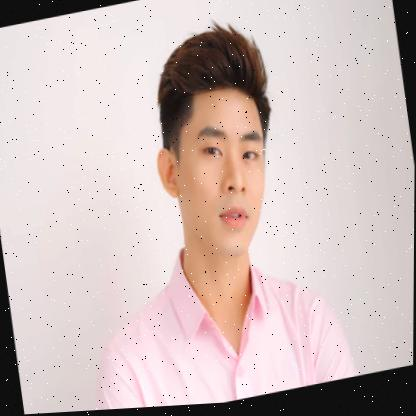person: (135, 7, 295, 277)
